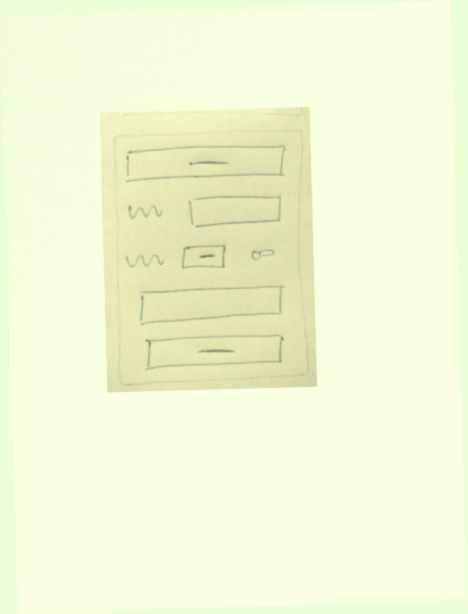button: (122, 142, 289, 186), (138, 331, 289, 374), (178, 241, 231, 274)
switch: (244, 241, 278, 266)
text: (123, 199, 167, 223), (123, 247, 167, 270)
text_input: (134, 281, 291, 327), (184, 191, 286, 231)
